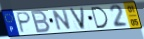2: (109, 4, 130, 29)
B: (31, 9, 52, 34)
D: (89, 6, 110, 29)
N: (52, 8, 72, 32)
P: (16, 11, 32, 34)
V: (68, 7, 86, 31)
